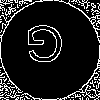G: (25, 25, 65, 72)
